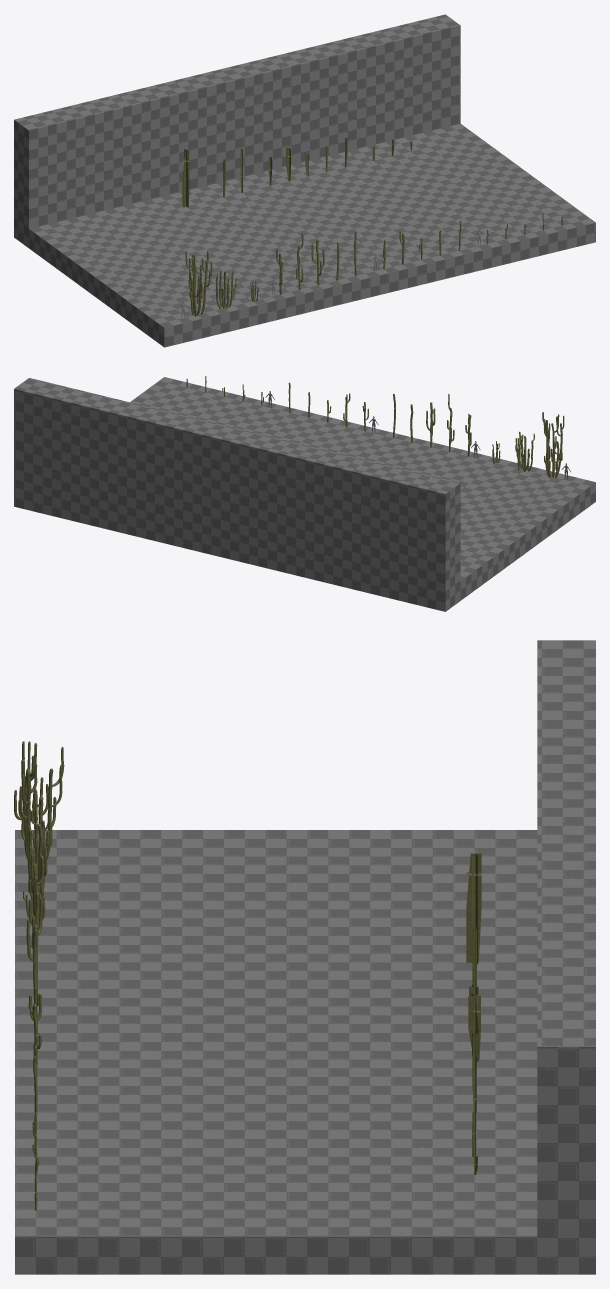
3 renders of one model, top to bottom at view 1: azimuth 30°, elevation 25°; view 2: azimuth 150°, elevation 25°; view 3: azimuth 270°, elevation 25°, orthographic. The views are drawn at different scales.
Visible parts, largest first — view 1: Cube, Big_pack_LOD0, Medium_pack_LOD0; view 2: Cube, Big_pack_LOD0, Medium_pack_LOD0; view 3: Cube, Big_pack_LOD0, Single_cactus_big_2_Billboard_LOD3_Single_cactus_big_2_Billb, Medium_pack_LOD0.
Part boxes in pixels (bbox=[...]): Cube: bbox=[14, 14, 595, 347]; Big_pack_LOD0: bbox=[185, 250, 212, 316]; Medium_pack_LOD0: bbox=[215, 271, 236, 308]; Cube: bbox=[14, 377, 595, 611]; Big_pack_LOD0: bbox=[542, 412, 564, 478]; Medium_pack_LOD0: bbox=[515, 431, 534, 471]; Cube: bbox=[15, 640, 595, 1274]; Big_pack_LOD0: bbox=[14, 741, 64, 859]; Single_cactus_big_2_Billboard_LOD3_Single_cactus_big_2_Billb: bbox=[466, 853, 481, 964]; Medium_pack_LOD0: bbox=[27, 810, 49, 896].
Size of what is drawn, in the model's own units: 46 by 12 by 27.83.
14 materials, 14 textured.
